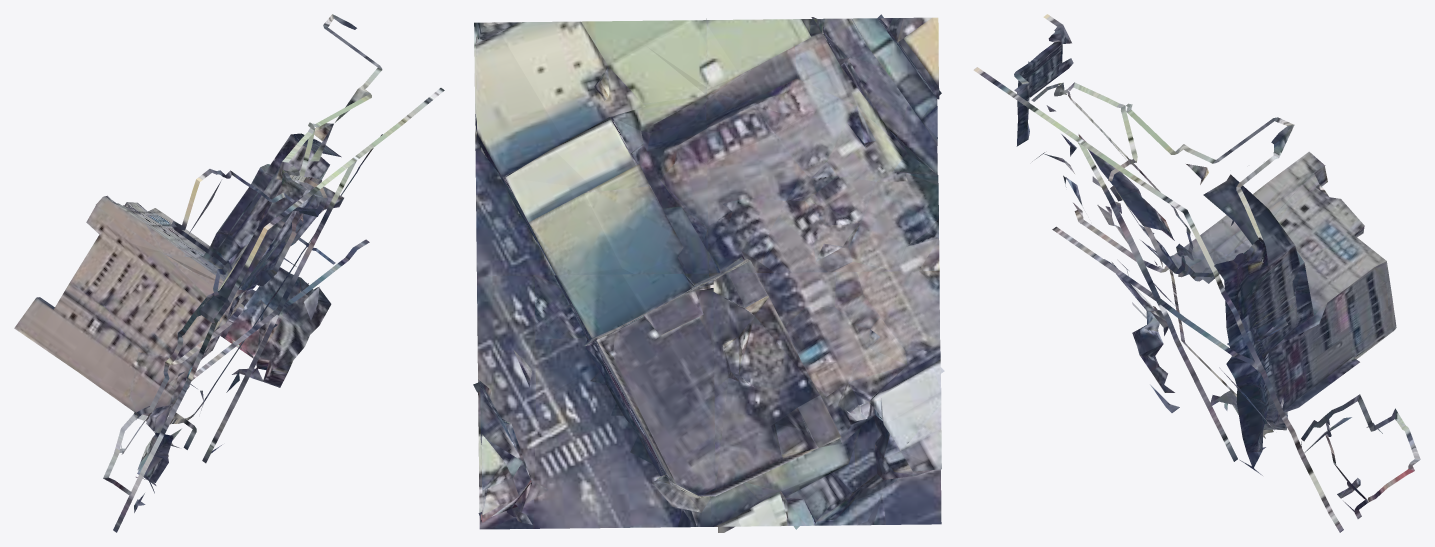
3 renders of one model, left to right at view 1: azimuth 30°, elevation 25°; view 2: azimuth 150°, elevation 25°; view 3: azimuth 270°, elevation 25°, orthographic. The views are drawn at different scales.
Bounding box in the file's own units: 78 × 80.07 × 77.71.
Materials: 1 (1 with a texture image).
